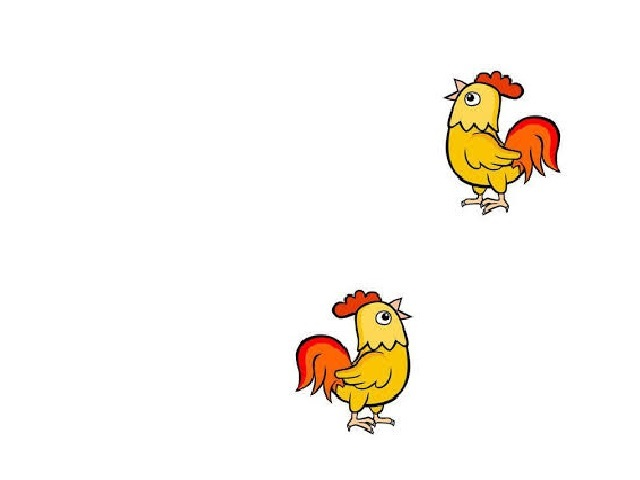crown: (327, 293, 379, 314), (482, 72, 524, 92)
eyes: (464, 90, 481, 106), (376, 310, 394, 325)
feet: (344, 410, 400, 438), (463, 192, 514, 216)
tail: (506, 114, 561, 186), (292, 333, 350, 399)
